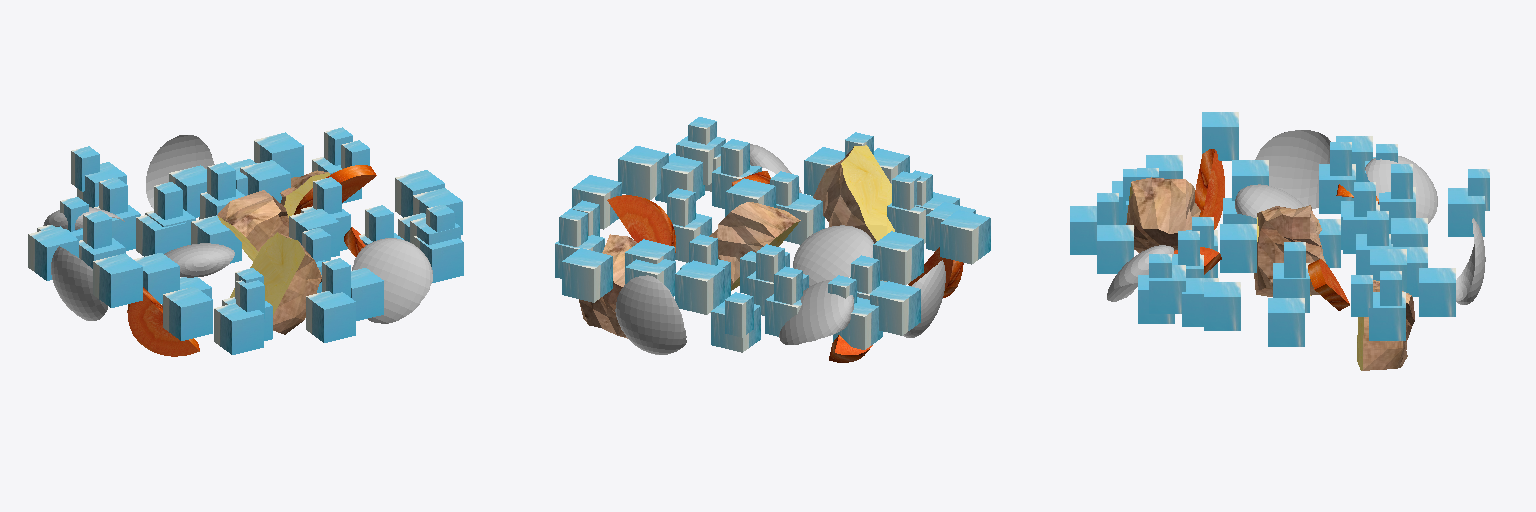
The picture shows the model from 3 angles: view 1: azimuth 30°, elevation 25°; view 2: azimuth 150°, elevation 25°; view 3: azimuth 270°, elevation 25°; orthographic projection.
Visible parts, largest first — view 1: Cube.030, 球.004, Cube.006, 球.002, 円柱.001, 立方体.012, 立方体.013, 立方体.015, 球, Cube.018, 球.001, 立方体.010 (+28 smaller); view 2: Cube.030, 球, Cube.006, 球.001, 球.003, 立方体.006, 立方体.012, 立方体.005, 円柱.002, 立方体.002, Cube.012, 立方体.010 (+28 smaller); view 3: Cube.030, 球.002, Cube.006, Cube.012, 立方体.006, 立方体.007, 立方体.017, 立方体.018, 球.003, 円柱.001, Cube.029, 立方体.012 (+28 smaller).
Boxes of the visible parts, <box> form: Cube.030: <box>230,232,321,334</box>; 球.004: <box>352,238,432,323</box>; Cube.006: <box>217,190,288,261</box>; 球.002: <box>51,246,107,320</box>; 円柱.001: <box>127,287,199,356</box>; 立方体.012: <box>93,253,142,307</box>; 立方体.013: <box>163,286,212,340</box>; 立方体.015: <box>306,291,355,342</box>; 球: <box>146,135,214,208</box>; Cube.018: <box>214,303,263,354</box>; 球.001: <box>164,243,234,277</box>; 立方体.010: <box>28,226,78,280</box>; Cube.030: <box>813,145,894,243</box>; 球: <box>615,275,686,354</box>; Cube.006: <box>709,202,800,290</box>; 球.001: <box>793,225,873,286</box>; 球.003: <box>779,280,853,344</box>; 立方体.006: <box>562,248,612,302</box>; 立方体.012: <box>940,210,990,264</box>; 立方体.005: <box>675,260,724,314</box>; 円柱.002: <box>607,195,675,252</box>; 立方体.002: <box>873,231,923,284</box>; Cube.012: <box>579,234,636,338</box>; 立方体.010: <box>870,281,920,335</box>; Cube.030: <box>1126,177,1200,252</box>; 球.002: <box>1255,130,1330,208</box>; Cube.006: <box>1254,205,1325,296</box>; Cube.012: <box>1357,280,1414,370</box>; 立方体.006: <box>1419,268,1455,316</box>; 立方体.007: <box>1268,298,1304,346</box>; 立方体.017: <box>1204,282,1240,330</box>; 立方体.018: <box>1220,224,1256,272</box>; 球.003: <box>1365,156,1437,223</box>; 円柱.001: <box>1195,149,1224,229</box>; Cube.029: <box>1097,225,1133,273</box>; 立方体.012: <box>1202,112,1238,160</box>.
Bounding box in the file's own units: 12.15 × 4.29 × 12.05.
Materials: 65 (5 with a texture image).